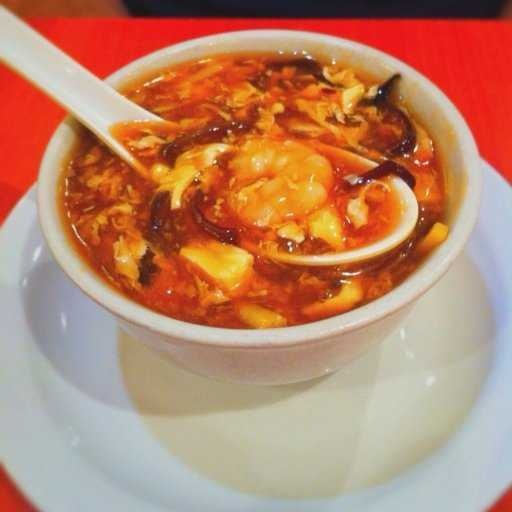soup: (32, 30, 477, 333)
